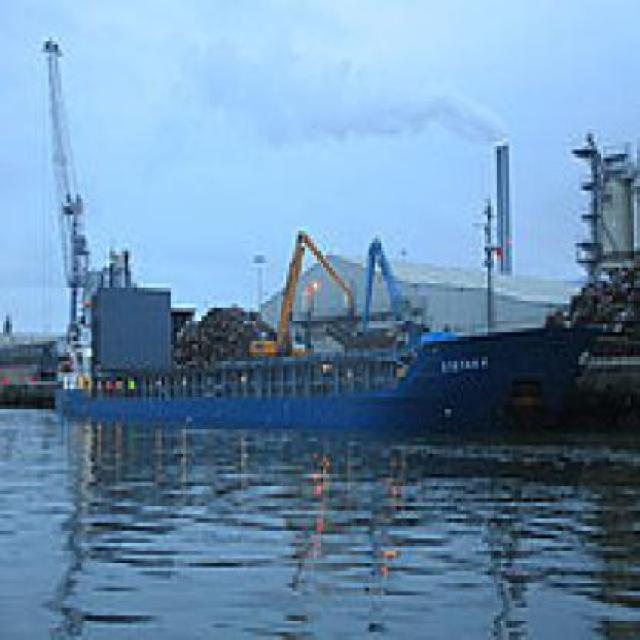container: (31, 21, 608, 455)
